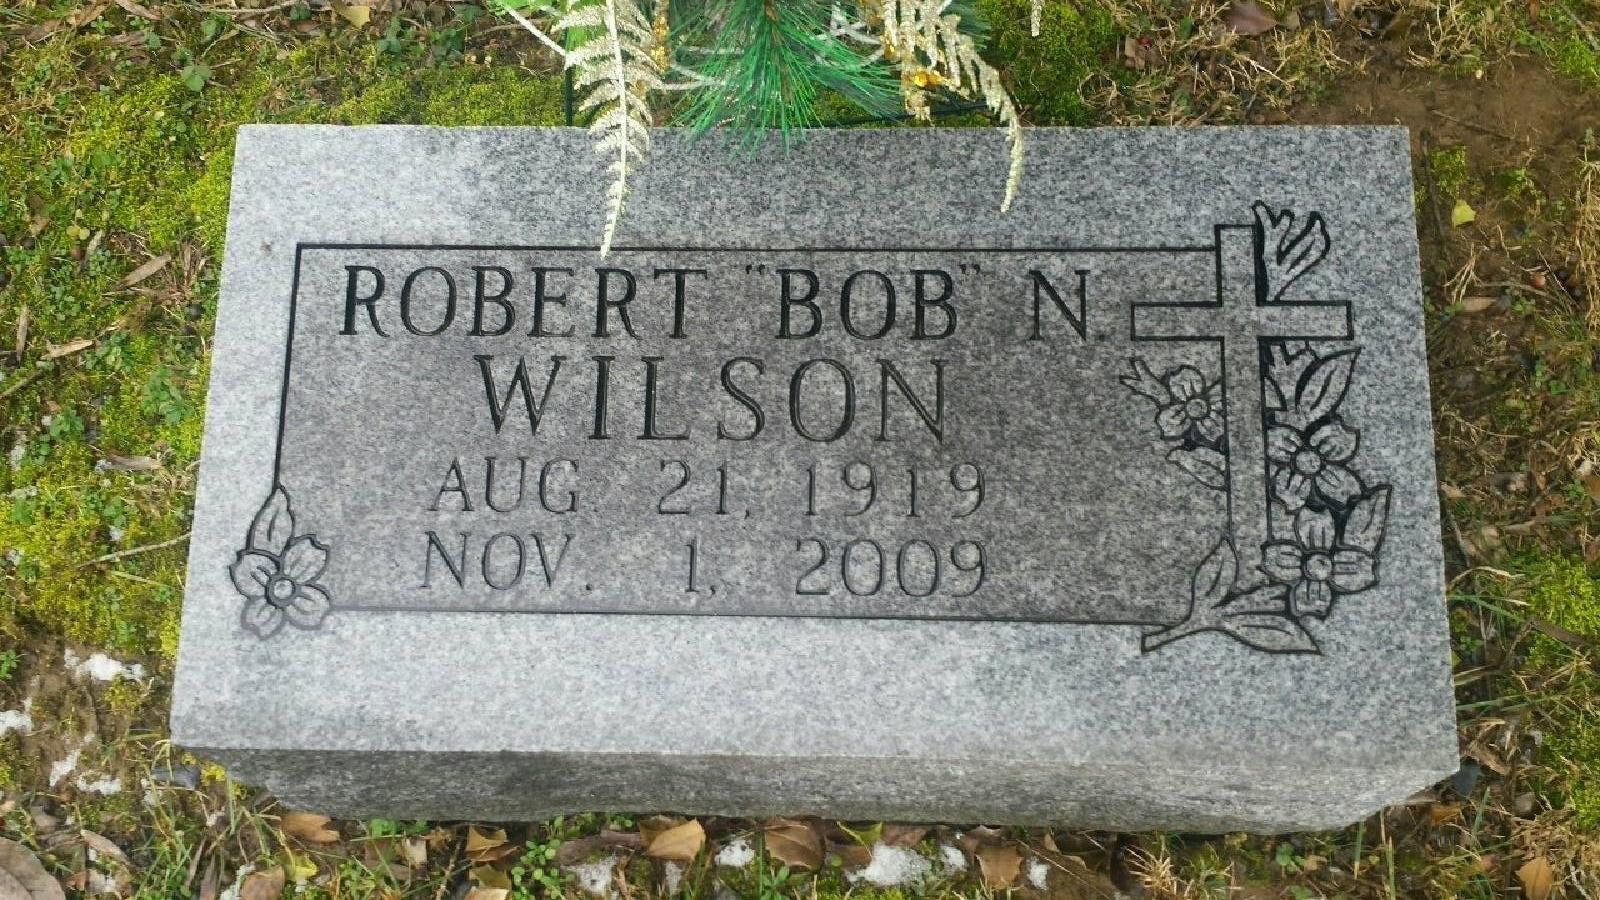flat: (171, 118, 1462, 792)
